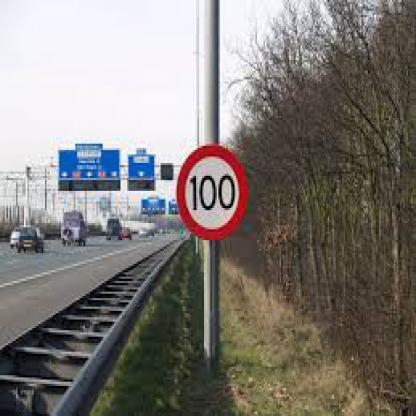Speed Limit 100: (178, 144, 247, 240)
